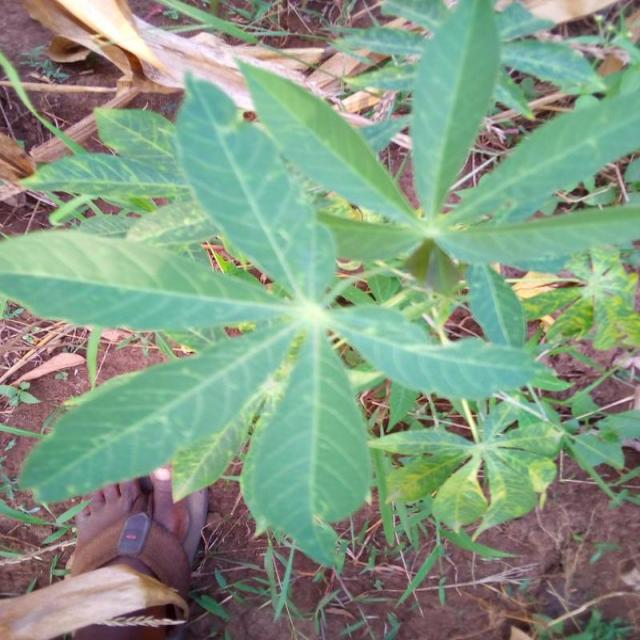cassava leaf: (0, 0, 639, 570), (173, 68, 338, 306), (238, 320, 373, 569), (408, 0, 502, 217)
